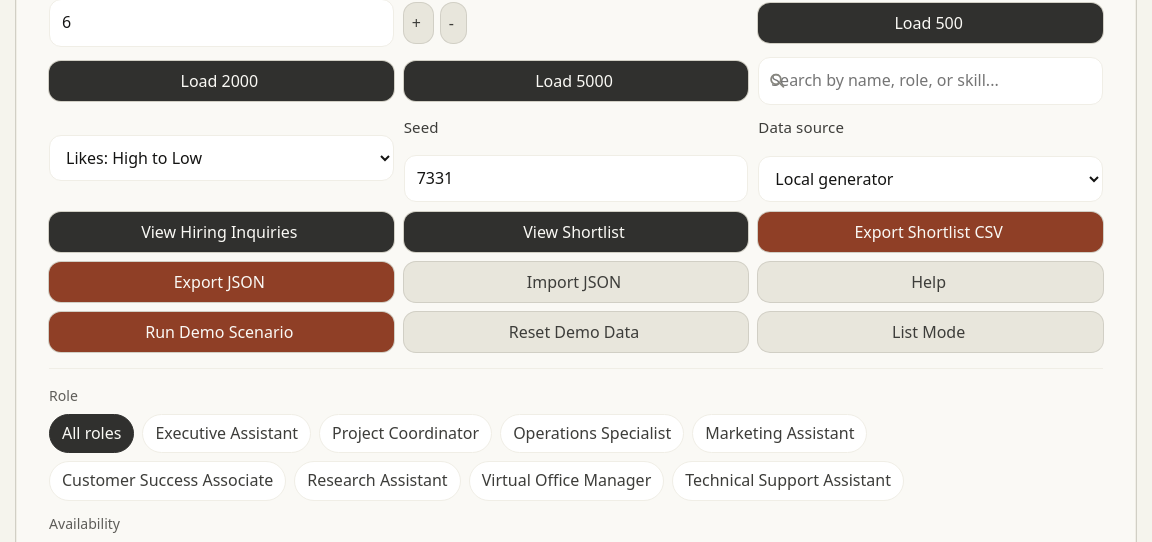
Test: App integration › runs one-click demo scenario preset
(page scrolled)
Click the button "Run Demo Scenario": (221, 332) [49,312,394,352]
(page scrolled)
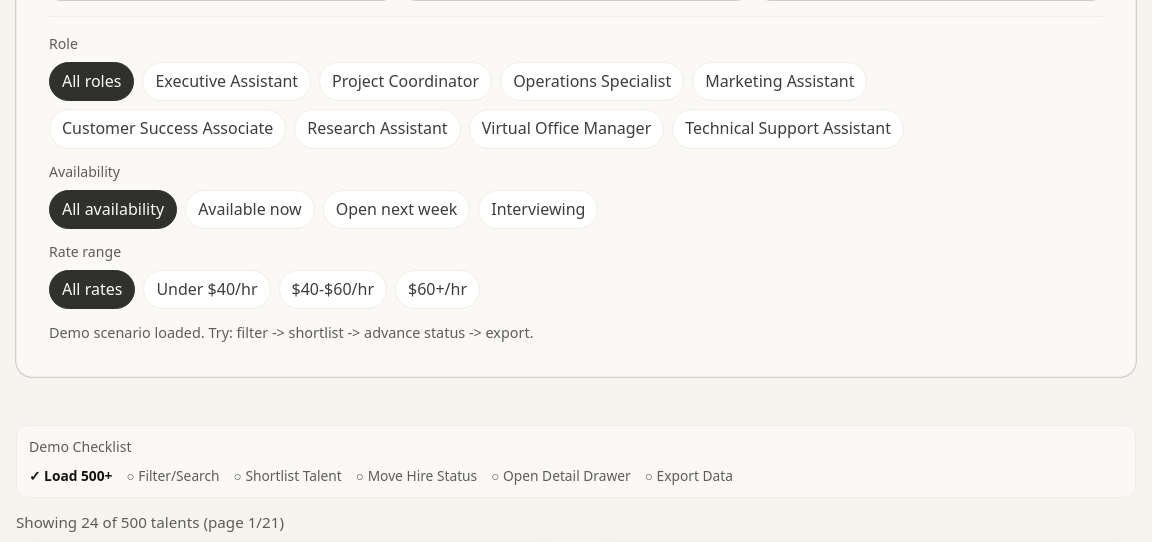
Check: the text "Demo scenario loaded" is shown, box [49,323,534,342]
